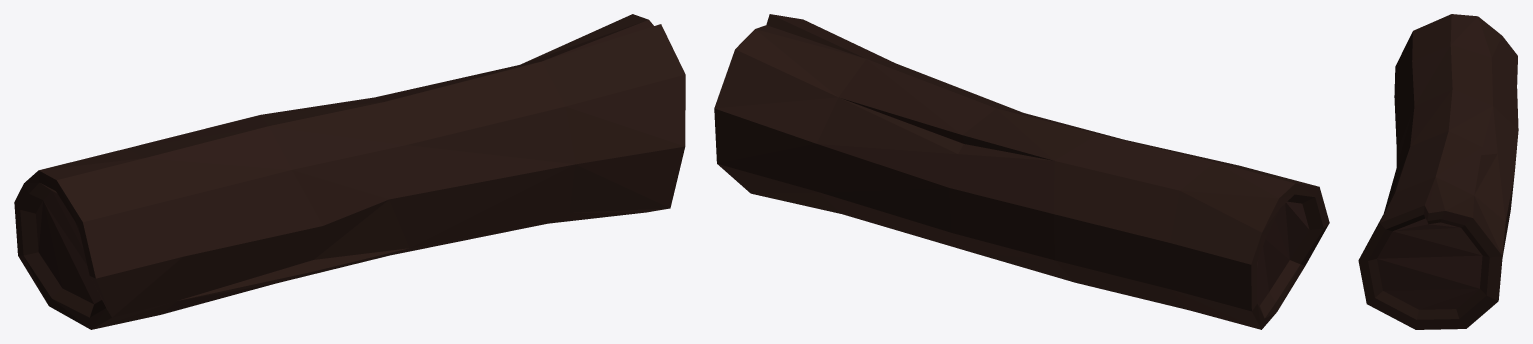
The model's file is WoodLog.002.fbx.
3 views of the same model, side by side, from view 1: azimuth 30°, elevation 25°; view 2: azimuth 150°, elevation 25°; view 3: azimuth 270°, elevation 25° (orthographic). The views are drawn at different scales.
Parts seen in each view (by area): view 1: WoodLog.002; view 2: WoodLog.002; view 3: WoodLog.002.
Part boxes in pixels (x1,y1,x2,y2): WoodLog.002: [14, 14, 685, 329]; WoodLog.002: [714, 14, 1329, 329]; WoodLog.002: [1358, 14, 1518, 329].
Bounding box in the file's own units: 153 × 48.51 × 44.34.
